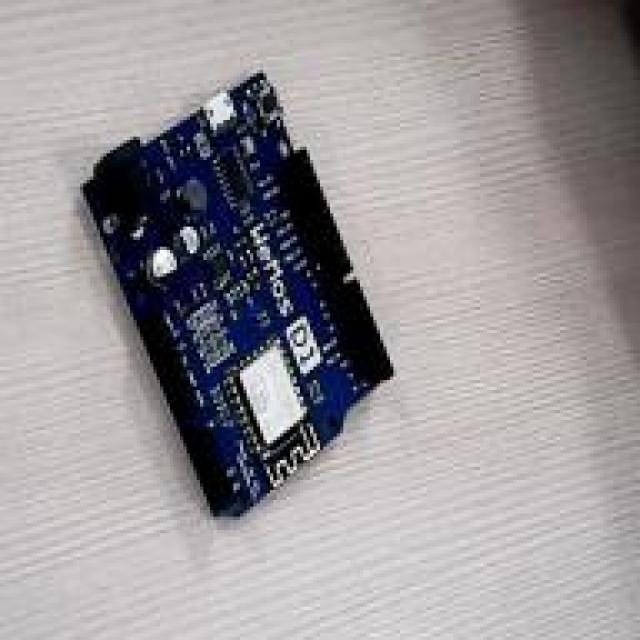Wemos: (84, 74, 391, 514)
